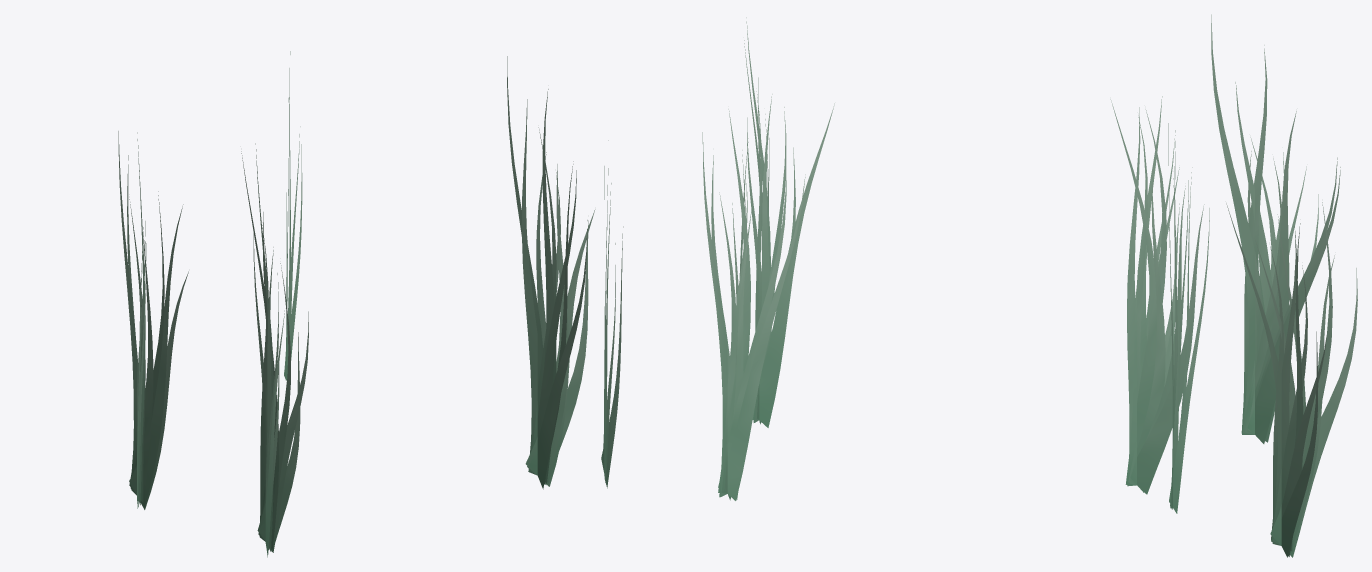
The model's file is mesh-plant-022-peacock-fan_LOD0.glb.
3 renders of one model, left to right at view 1: azimuth 30°, elevation 25°; view 2: azimuth 150°, elevation 25°; view 3: azimuth 270°, elevation 25°, orthographic. The views are drawn at different scales.
Visible parts, largest first — view 1: geometry_0; view 2: geometry_0; view 3: geometry_0.
Part boxes in pixels (x1,y1,x2,y2): geometry_0: [118, 51, 308, 557]; geometry_0: [507, 17, 834, 500]; geometry_0: [1110, 14, 1357, 557].
Bounding box in the file's own units: 1.26 × 1.72 × 1.77.
